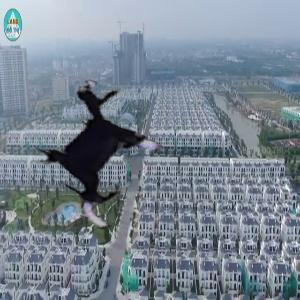drone: (25, 75, 184, 234)
